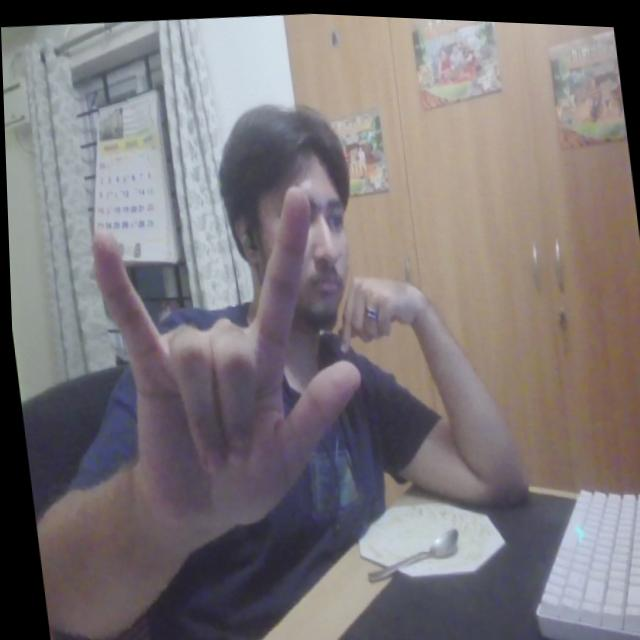iloveyou: (80, 169, 378, 546)
